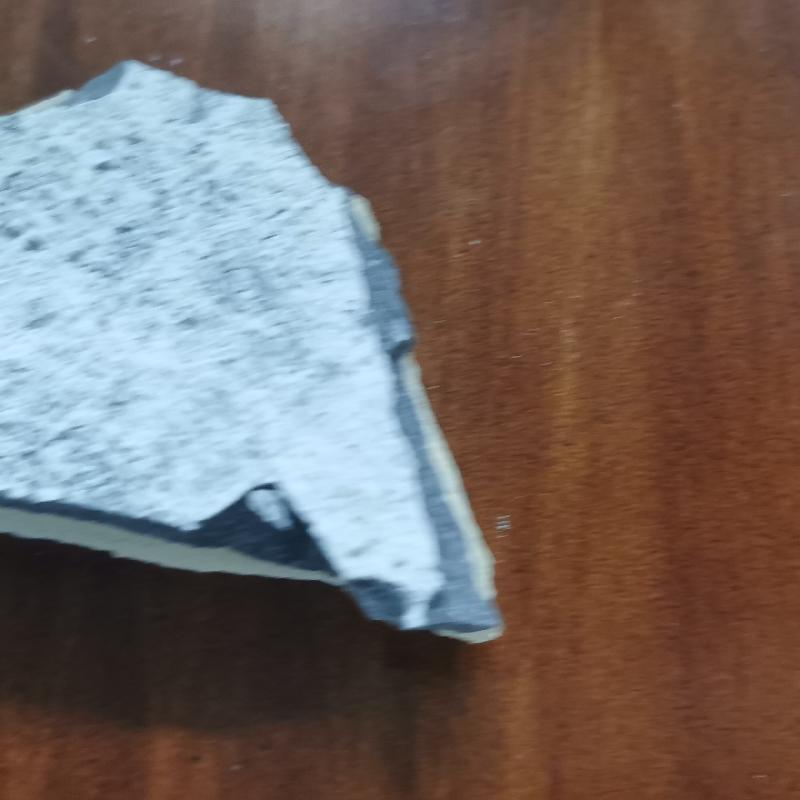tile: (1, 55, 514, 652)
